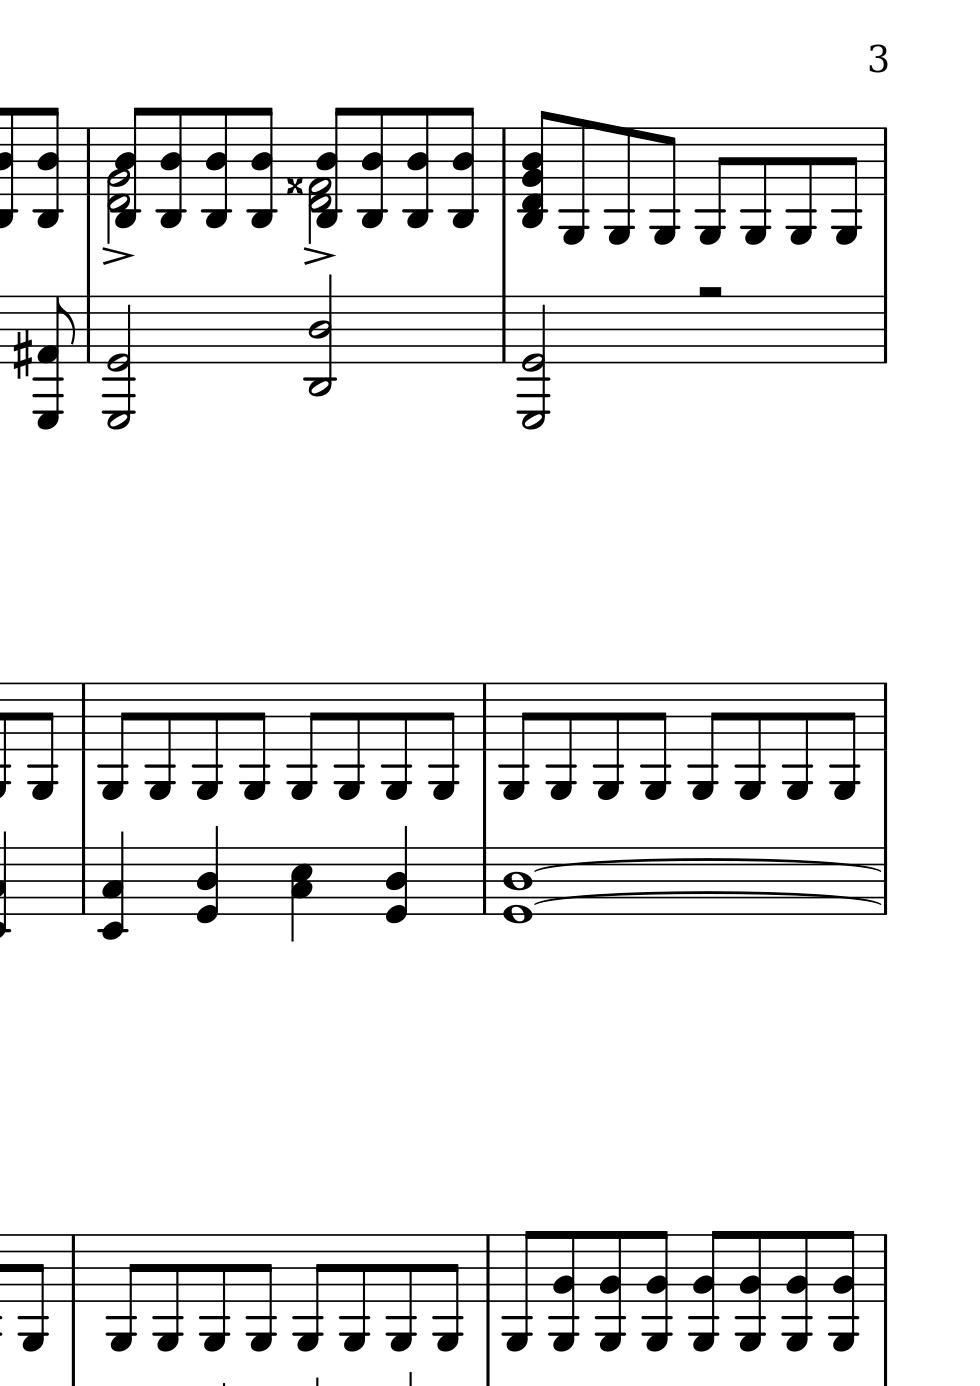1_0_4: (502, 845, 533, 925)
2_-7_0: (102, 295, 138, 429), (517, 294, 552, 429)
3: (868, 42, 888, 74)
4_-2_3: (95, 832, 129, 941)
4_0_4: (194, 827, 221, 924), (385, 825, 409, 924)
4_3_5: (288, 845, 314, 944)
8_-3_4: (303, 273, 339, 398), (34, 105, 65, 229), (154, 105, 185, 229), (199, 104, 230, 228), (245, 104, 276, 228), (357, 106, 386, 229), (402, 104, 431, 227), (447, 104, 475, 227)
8_-5: (501, 1229, 537, 1352), (105, 1231, 140, 1354), (287, 680, 322, 802), (498, 680, 533, 802), (688, 680, 723, 802), (292, 1232, 327, 1354), (696, 125, 730, 247), (98, 680, 132, 802), (428, 679, 460, 802), (28, 680, 59, 802), (783, 679, 813, 802), (433, 1231, 463, 1354), (240, 680, 270, 802), (641, 680, 671, 802), (18, 1232, 49, 1354), (735, 680, 766, 801), (153, 1231, 183, 1352), (145, 680, 176, 800), (200, 1231, 231, 1351), (382, 679, 412, 802), (594, 679, 624, 802), (832, 126, 861, 248), (193, 680, 223, 802), (830, 680, 860, 802), (246, 1232, 276, 1354), (386, 1231, 416, 1353), (340, 1232, 371, 1350), (606, 124, 635, 244), (787, 125, 817, 245), (335, 679, 364, 803), (560, 117, 588, 245), (547, 679, 576, 802), (651, 126, 681, 243), (742, 125, 771, 246)
8_-5_2: (689, 1229, 724, 1351), (640, 1228, 670, 1351), (781, 1228, 811, 1351), (549, 1229, 579, 1352), (593, 1229, 623, 1352), (735, 1228, 765, 1351), (828, 1228, 858, 1351)
8_-7_1: (32, 294, 76, 431)
8_4th: (518, 110, 556, 231)
Accent_above: (301, 244, 337, 267), (98, 245, 135, 267)
DSharp: (283, 176, 305, 197), (284, 176, 305, 195)
Rests2: (695, 281, 725, 302)
Sharp: (11, 327, 32, 380)
Single_barline: (493, 295, 513, 363), (63, 1235, 82, 1303), (875, 295, 893, 364), (876, 846, 894, 915), (74, 683, 92, 751), (475, 683, 493, 751), (479, 1235, 497, 1303), (476, 847, 494, 914), (78, 128, 97, 194), (876, 127, 893, 196), (876, 1234, 893, 1303), (876, 683, 893, 751), (495, 128, 512, 195), (80, 296, 97, 362), (75, 848, 91, 914)
Slur: (535, 887, 887, 906), (533, 857, 885, 874)
